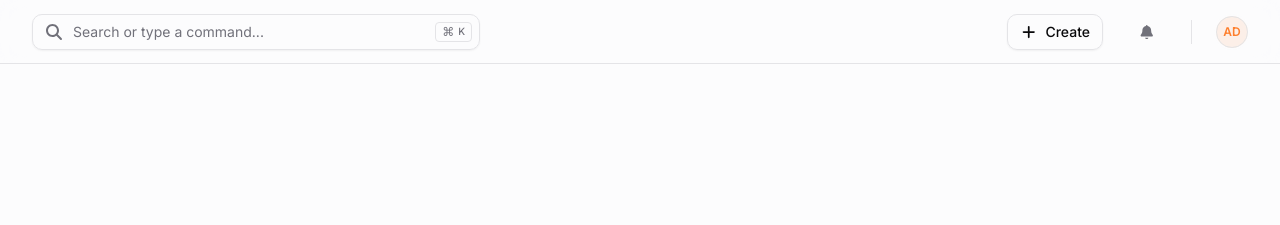
TopNav Component › shows Create button for Admin with New Employee option
Check: the text "Create" is shown, box top-left (1045, 22), bottom-right (1090, 42)
# Open dropdown
What coordinates should you click on to do the following:
click the button "Create"
I would click on:
 (1055, 32)
Its box is top-left (1007, 14), bottom-right (1103, 50).
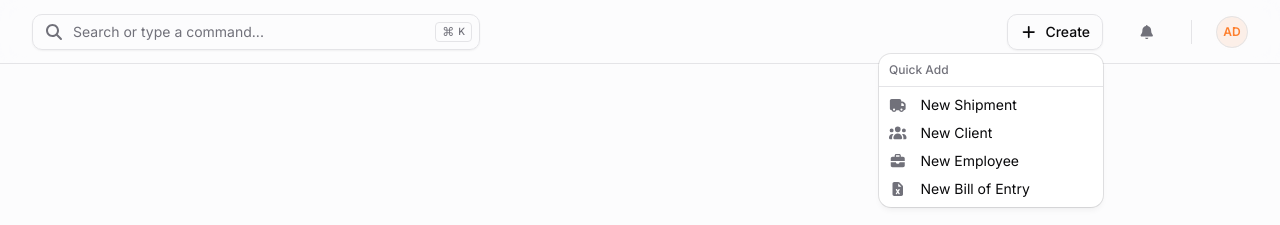
Check: the text "New Employee" is shown, box top-left (920, 151), bottom-right (1019, 171)
